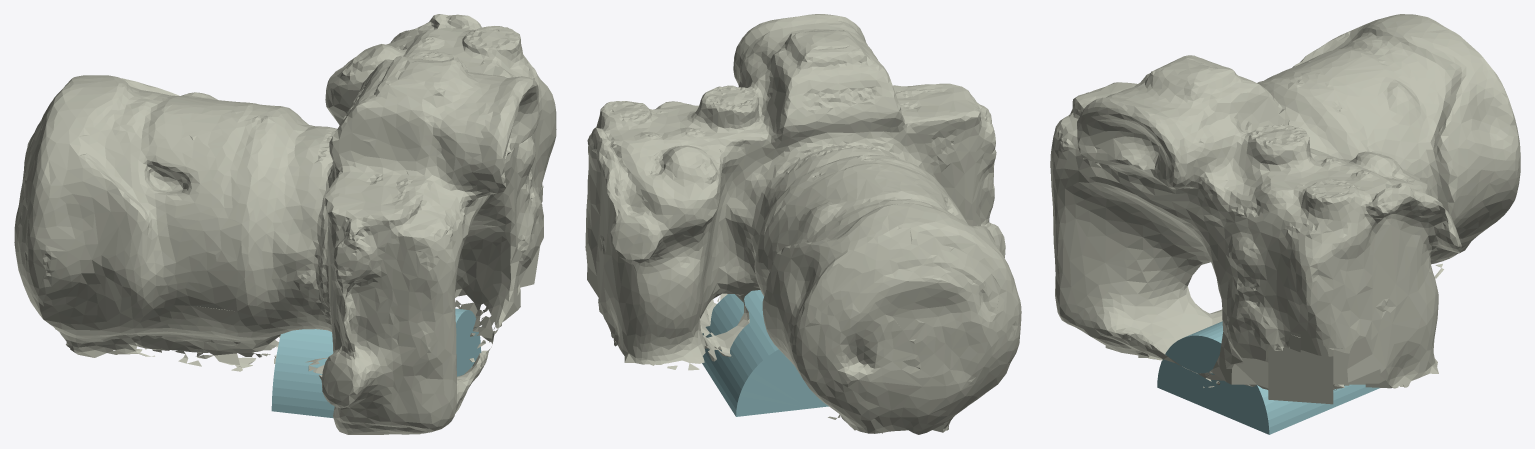
3 renders of one model, left to right at view 1: azimuth 30°, elevation 25°; view 2: azimuth 150°, elevation 25°; view 3: azimuth 270°, elevation 25°, orthographic. The views are drawn at different scales.
Parts seen in each view (by area): view 1: Mesh_Mesh_head_geo.001_lambert2SG.001; view 2: Mesh_Mesh_head_geo.001_lambert2SG.001; view 3: Mesh_Mesh_head_geo.001_lambert2SG.001.
Boxes of the visible parts, x1,y1,x2,y2 form: Mesh_Mesh_head_geo.001_lambert2SG.001: (14, 14, 556, 434); Mesh_Mesh_head_geo.001_lambert2SG.001: (585, 14, 1021, 434); Mesh_Mesh_head_geo.001_lambert2SG.001: (1050, 14, 1520, 434).
Bounding box in the file's own units: 67.83 × 44.78 × 59.31.
